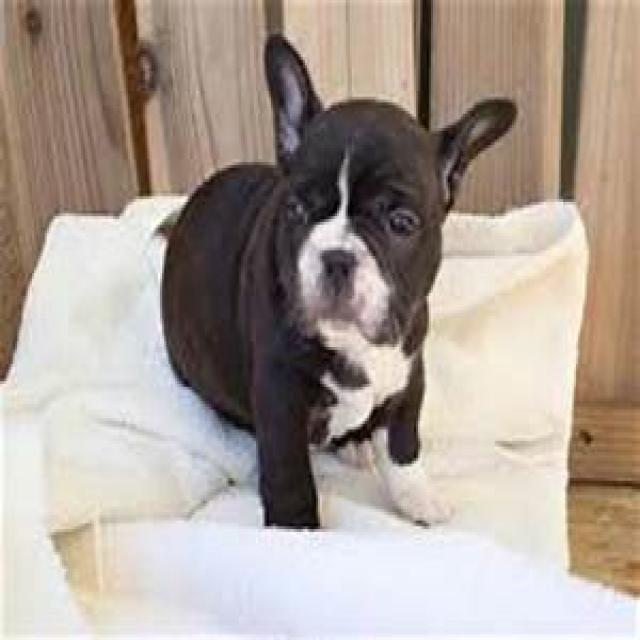dog: (160, 34, 521, 529)
